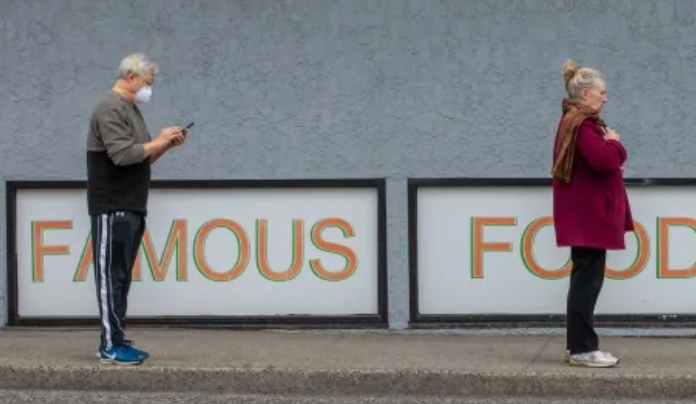Good: (85, 50, 628, 370)
